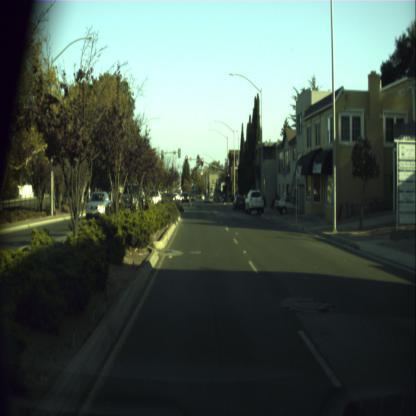Red: (228, 172, 230, 182), (201, 157, 203, 165), (185, 154, 187, 162)
